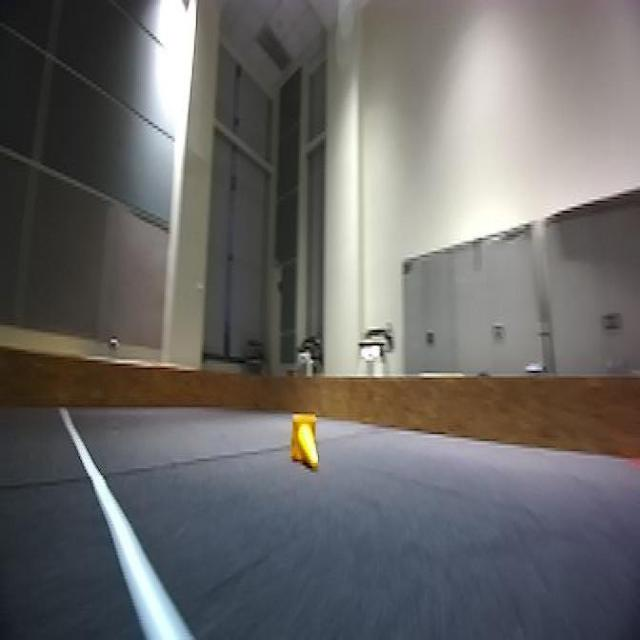frc_cone: (289, 416, 319, 466)
